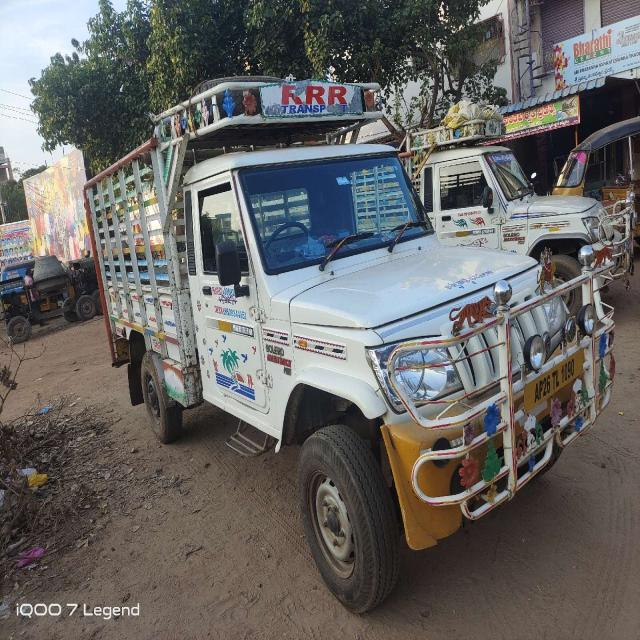light_vehicle: (91, 156, 594, 467)
